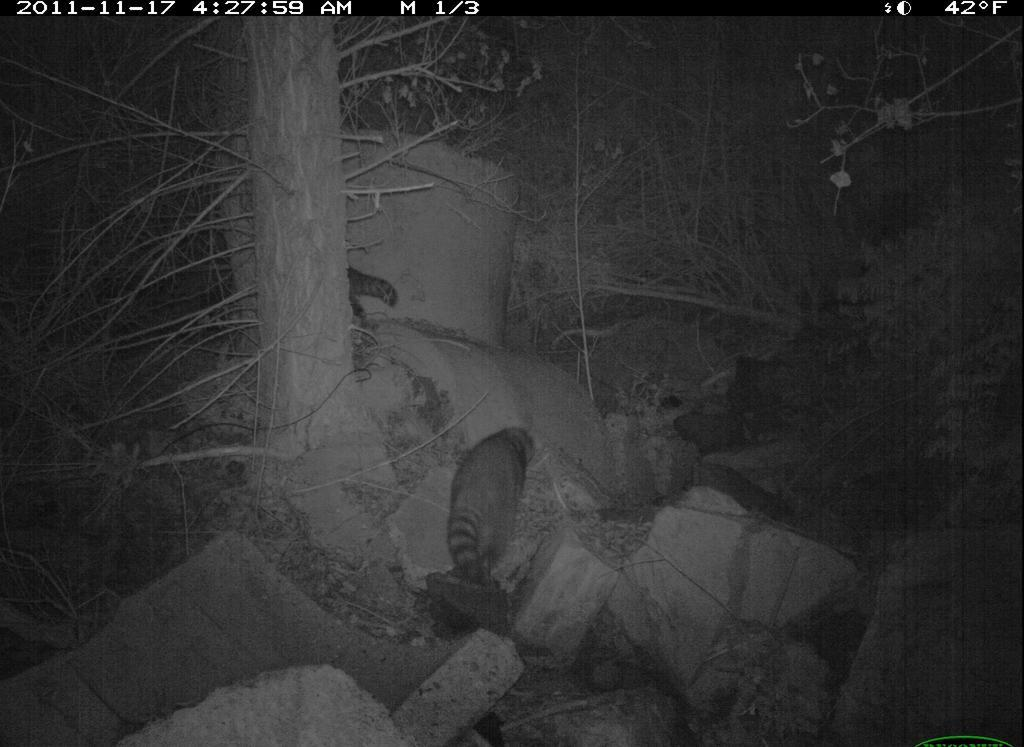raccoon: (437, 410, 558, 604), (341, 253, 428, 340)
